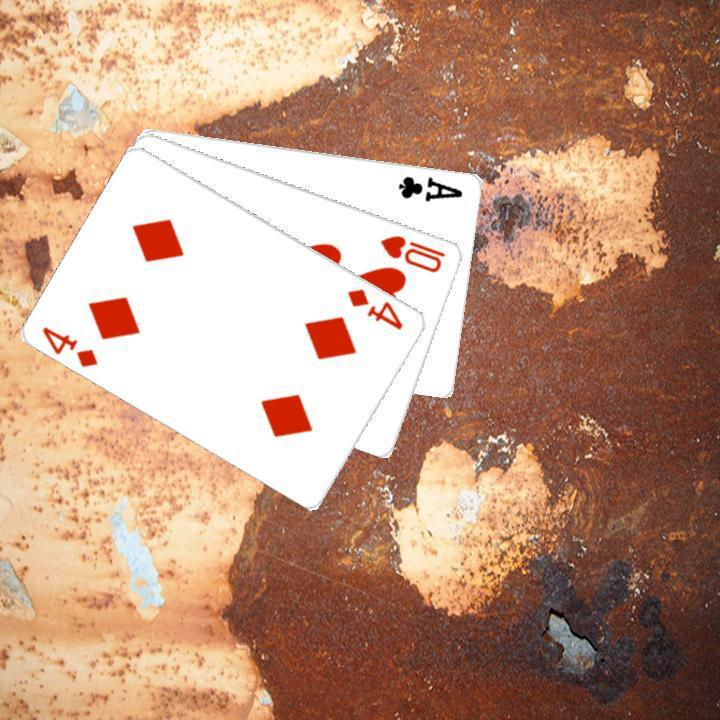10: (376, 230, 448, 275)
4: (343, 283, 406, 332), (38, 322, 101, 370)
A: (394, 171, 465, 203)
